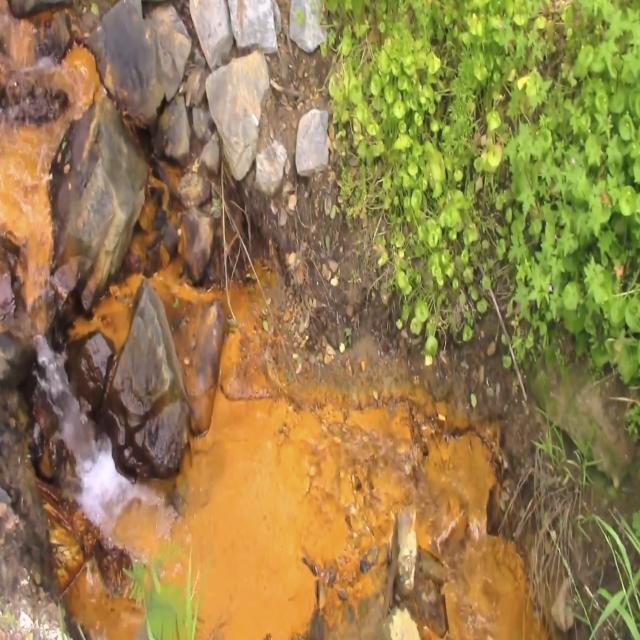yellow_boy: (172, 285, 543, 639), (0, 47, 99, 296), (71, 276, 141, 345)
